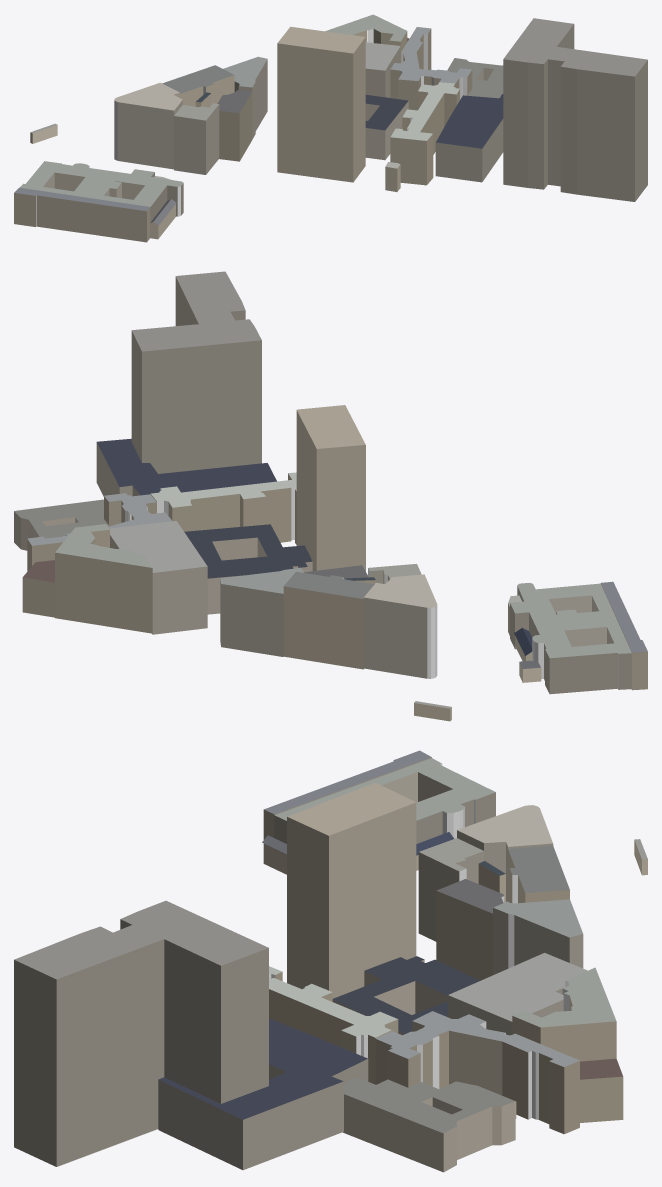
3 renders of one model, top to bottom at view 1: azimuth 30°, elevation 25°; view 2: azimuth 150°, elevation 25°; view 3: azimuth 270°, elevation 25°, orthographic. The views are drawn at different scales.
Visible parts, largest first — view 1: tuile; view 2: tuile; view 3: tuile.
Part boxes in pixels (x1,y1,x2,y2): tuile: [14, 14, 647, 242]; tuile: [14, 271, 647, 721]; tuile: [14, 750, 647, 1172].
Bounding box in the file's own units: 250 × 60.4 × 177.
